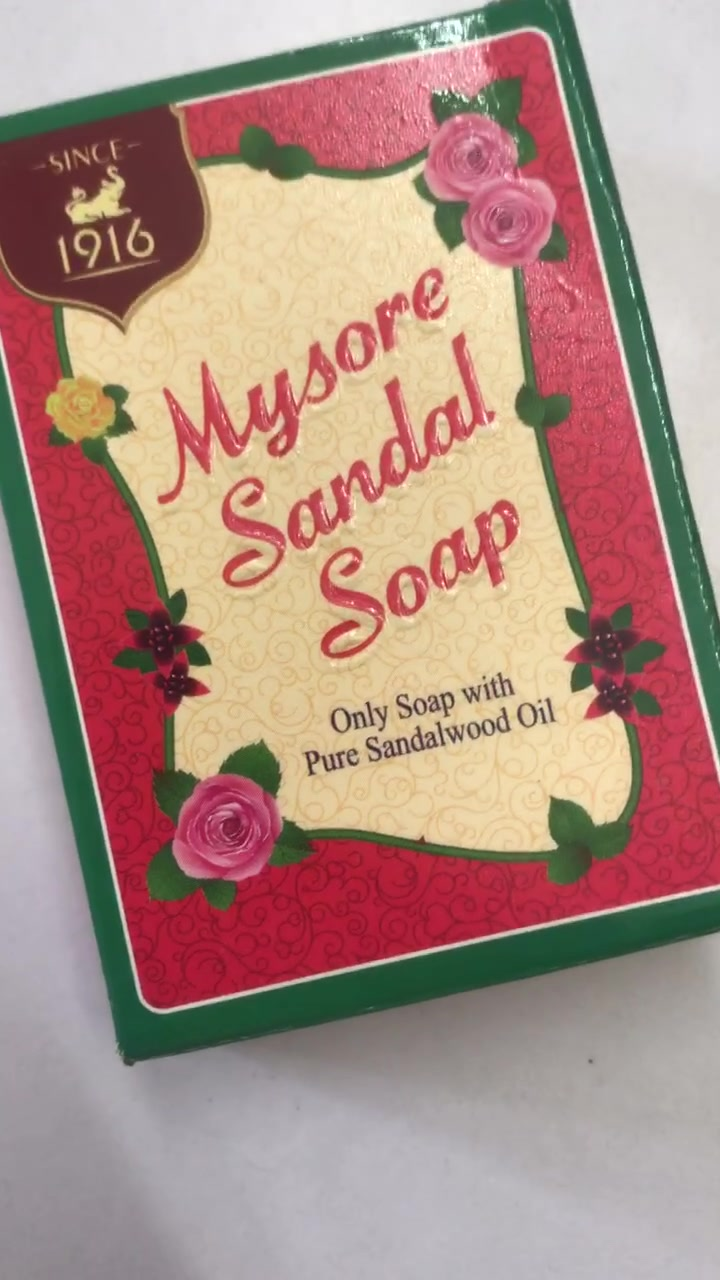mysore sandal soap: (8, 6, 713, 1070)
